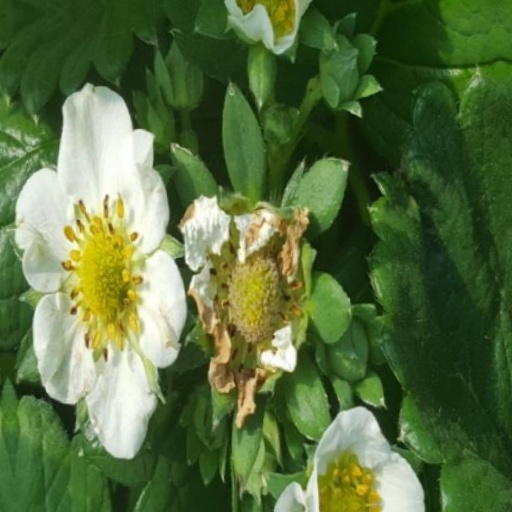Blossom Blight: (58, 182, 145, 355), (206, 224, 302, 378)
